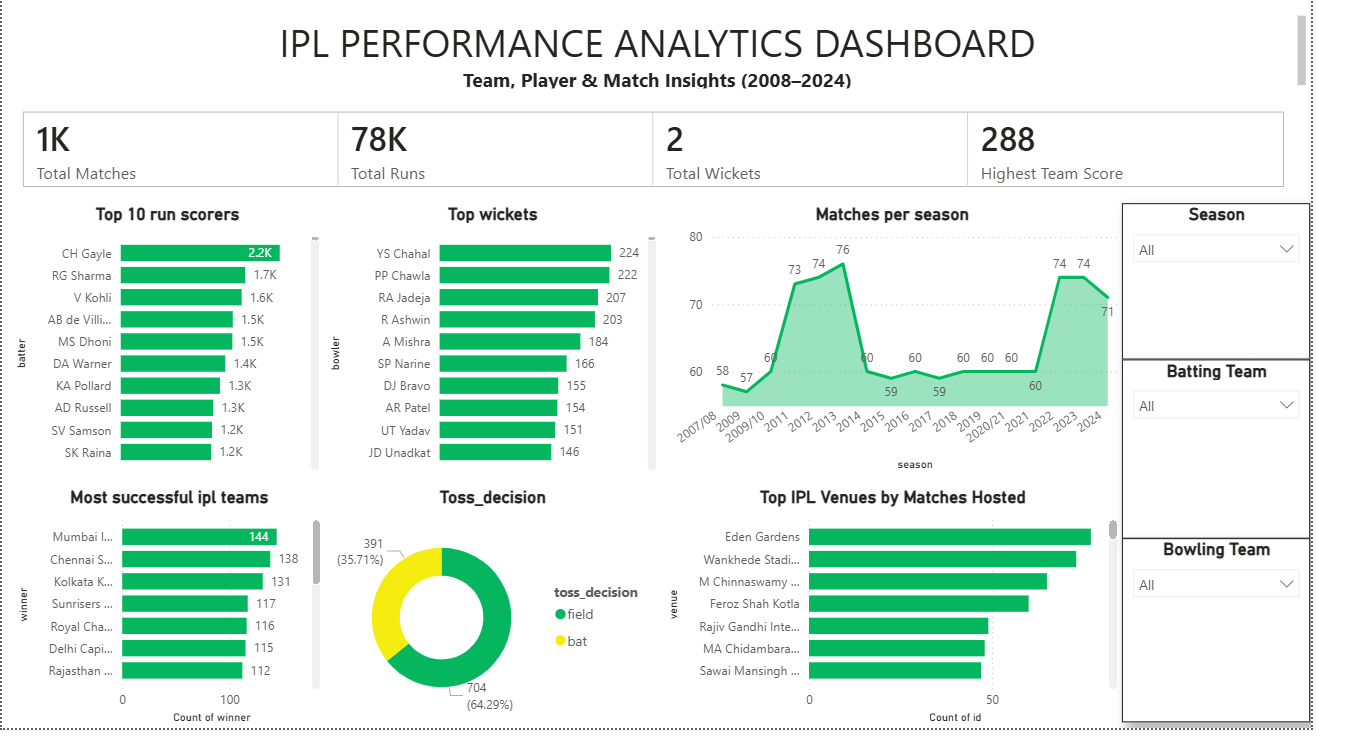

Layout of this report page (visuals, bound fields, positions):
{"tool":"powerbi","page":{"name":"Page 1","canvas":[1280,720],"ordinal":0},"visuals":[{"type":"textbox","box":[9.6,17.8,1270.7,81],"z":0},{"type":"cardVisual","fields":{"Data":["cleaned_matches.Total Matches","cleaned_matches.Total Runs","cleaned_matches.Total Wickets","cleaned_matches.Highest Team Score"]},"box":[4.1,100.2,1270.7,107],"z":1000},{"type":"clusteredBarChart","title":"Top 10  run scorers","fields":{"Category":["cleaned_deliveries.batter"],"Y":["Sum(cleaned_deliveries.batsman_runs)"]},"box":[9,206.6,307,266.5],"z":2000},{"type":"clusteredBarChart","title":"Top wickets","fields":{"Category":["cleaned_deliveries.bowler"],"Y":["CountNonNull(cleaned_deliveries.is_wicket)"]},"box":[316,206.6,329.4,266.5],"z":3000},{"type":"lineChart","title":"Matches per season","fields":{"Y":["CountNonNull(cleaned_matches.id)"],"Category":["cleaned_matches.season"]},"box":[645.4,206.6,450.7,266.5],"z":4000},{"type":"clusteredBarChart","title":"Most successful ipl teams","fields":{"Category":["cleaned_matches.winner"],"Y":["CountNonNull(cleaned_matches.winner)"]},"box":[10.5,483.7,305.5,236.6],"z":5000},{"type":"donutChart","title":"Toss_decision","fields":{"Category":["cleaned_matches.toss_decision"],"Y":["CountNonNull(cleaned_matches.toss_decision)"]},"box":[316,483.7,329.4,236.6],"z":6000},{"type":"clusteredBarChart","title":"Top IPL Venues by Matches Hosted","fields":{"Category":["cleaned_matches.venue"],"Y":["CountNonNull(cleaned_matches.id)"]},"box":[646.9,483.7,449.2,236.6],"z":7000},{"type":"slicer","title":"Season","fields":{"Values":["cleaned_matches.season"]},"box":[1096.1,206.6,184.2,152.7],"z":8000},{"type":"slicer","title":"Batting Team","fields":{"Values":["cleaned_deliveries.batting_team"]},"box":[1096.1,359.4,184.2,175.2],"z":9000},{"type":"slicer","title":"Bowling Team","fields":{"Values":["cleaned_deliveries.bowling_team"]},"box":[1096.1,534.6,184.2,179.7],"z":10000}]}

Visuals, with their boxes on the page's 1280x720 design canvas (x1, y1, x2, y2). These are canvas units, not pixel positions in the 1356x738 screenshot, which may show the page scaled, cropped or inside an application window:
textbox: {"x1": 10, "y1": 18, "x2": 1280, "y2": 99}
cardVisual - cleaned_matches.Total Matches x cleaned_matches.Total Runs: {"x1": 4, "y1": 100, "x2": 1275, "y2": 207}
"Top 10  run scorers" clusteredBarChart: {"x1": 9, "y1": 207, "x2": 316, "y2": 473}
"Top wickets" clusteredBarChart: {"x1": 316, "y1": 207, "x2": 645, "y2": 473}
"Matches per season" lineChart: {"x1": 645, "y1": 207, "x2": 1096, "y2": 473}
"Most successful ipl teams" clusteredBarChart: {"x1": 10, "y1": 484, "x2": 316, "y2": 720}
"Toss_decision" donutChart: {"x1": 316, "y1": 484, "x2": 645, "y2": 720}
"Top IPL Venues by Matches Hosted" clusteredBarChart: {"x1": 647, "y1": 484, "x2": 1096, "y2": 720}
"Season" slicer: {"x1": 1096, "y1": 207, "x2": 1280, "y2": 359}
"Batting Team" slicer: {"x1": 1096, "y1": 359, "x2": 1280, "y2": 535}
"Bowling Team" slicer: {"x1": 1096, "y1": 535, "x2": 1280, "y2": 714}
